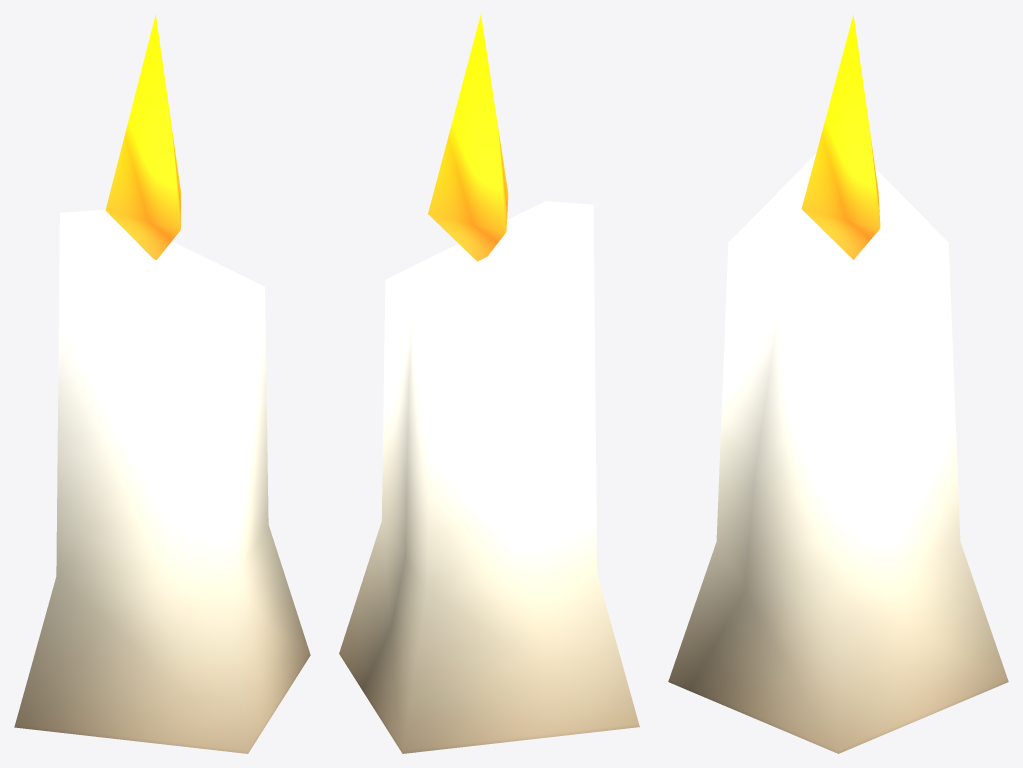
File: deco_cathedral_candle_C.FBX
3 renders of one model, left to right at view 1: azimuth 30°, elevation 25°; view 2: azimuth 150°, elevation 25°; view 3: azimuth 270°, elevation 25°, orthographic. The views are drawn at different scales.
Visible parts, largest first — view 1: deco_cathedral_candle_C; view 2: deco_cathedral_candle_C; view 3: deco_cathedral_candle_C.
Boxes of the visible parts, box(x1,y1,x2,y2) form: deco_cathedral_candle_C: box(14, 14, 310, 753); deco_cathedral_candle_C: box(339, 14, 639, 753); deco_cathedral_candle_C: box(668, 14, 1008, 753).
Size of the model in its own units: 0.3643 by 0.7888 by 0.3643.
Materials: 1 (1 with a texture image).
